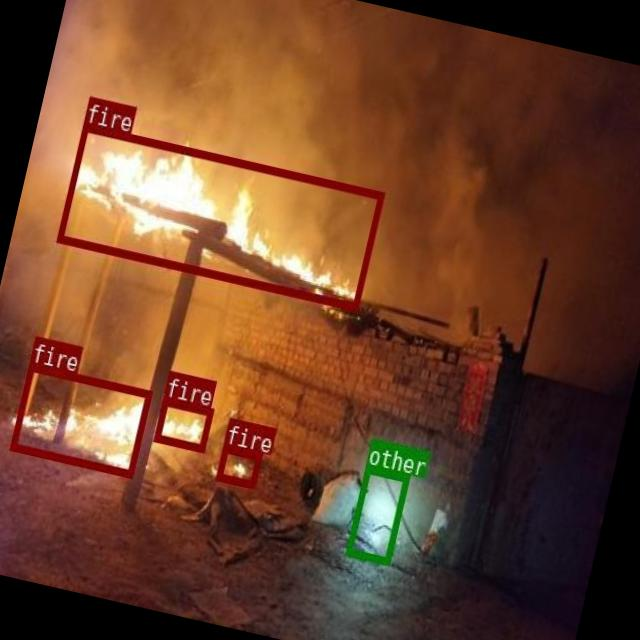fire: (55, 122, 384, 310), (9, 362, 152, 476), (153, 396, 213, 451), (214, 444, 260, 486)
